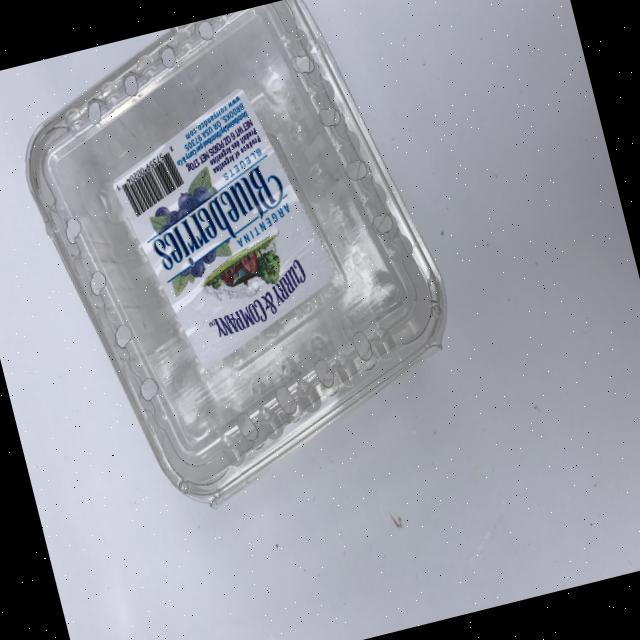plastic: (0, 0, 483, 533)
